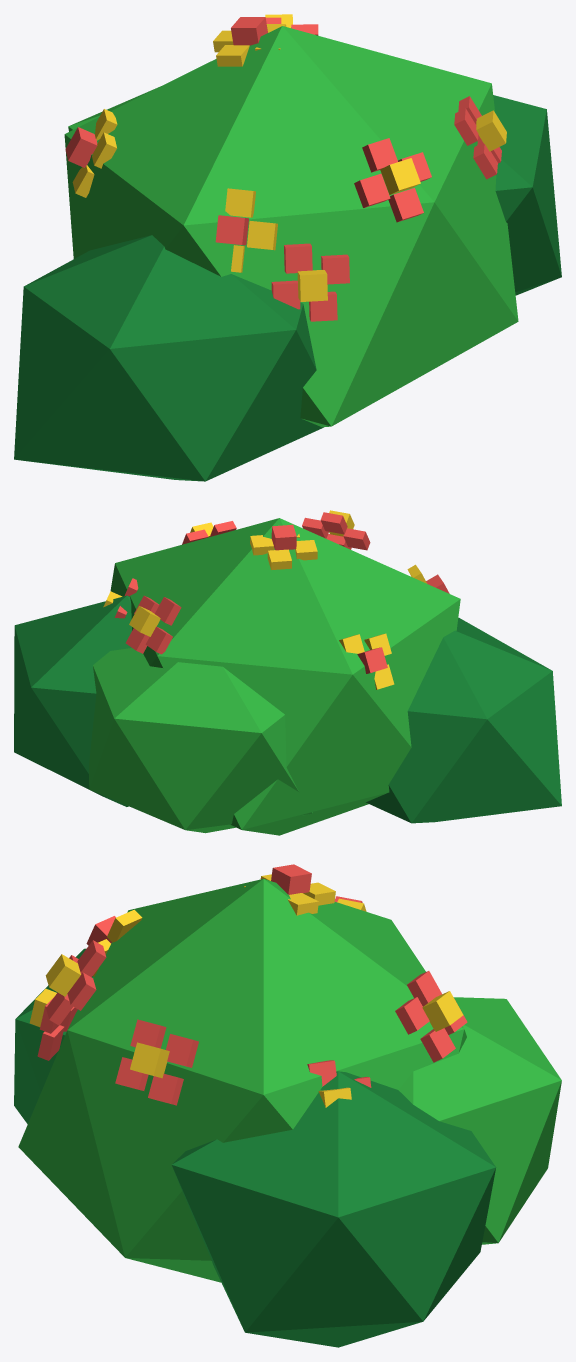
The model's file is bush_flower.glb.
The picture shows the model from 3 angles, top to bottom: view 1: azimuth 30°, elevation 25°; view 2: azimuth 150°, elevation 25°; view 3: azimuth 270°, elevation 25°; orthographic projection. The views are drawn at different scales.
Visible parts, largest first — view 1: Shrub; view 2: Shrub; view 3: Shrub.
Part boxes in pixels (bbox=[...]): Shrub: bbox=[14, 14, 561, 481]; Shrub: bbox=[14, 510, 561, 835]; Shrub: bbox=[14, 864, 561, 1347].
Size of the model in its own units: 1.17 by 0.734 by 0.8788.
